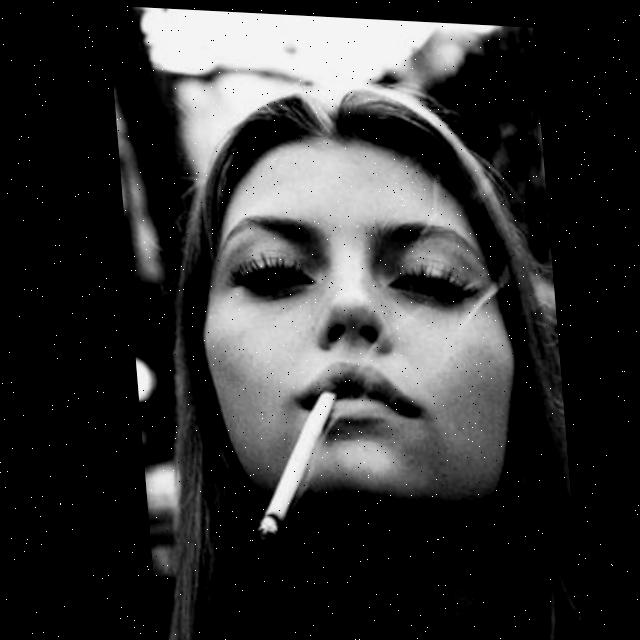cigarette: (241, 384, 339, 537)
